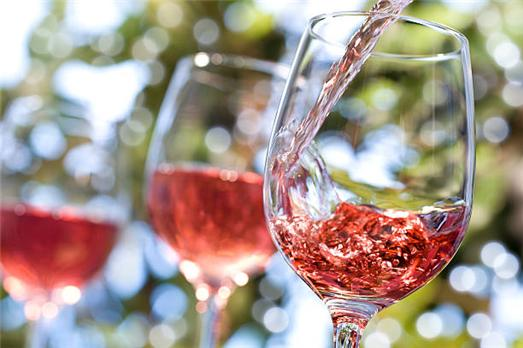alcohol: (262, 10, 473, 348), (147, 50, 282, 347), (4, 96, 127, 346)
